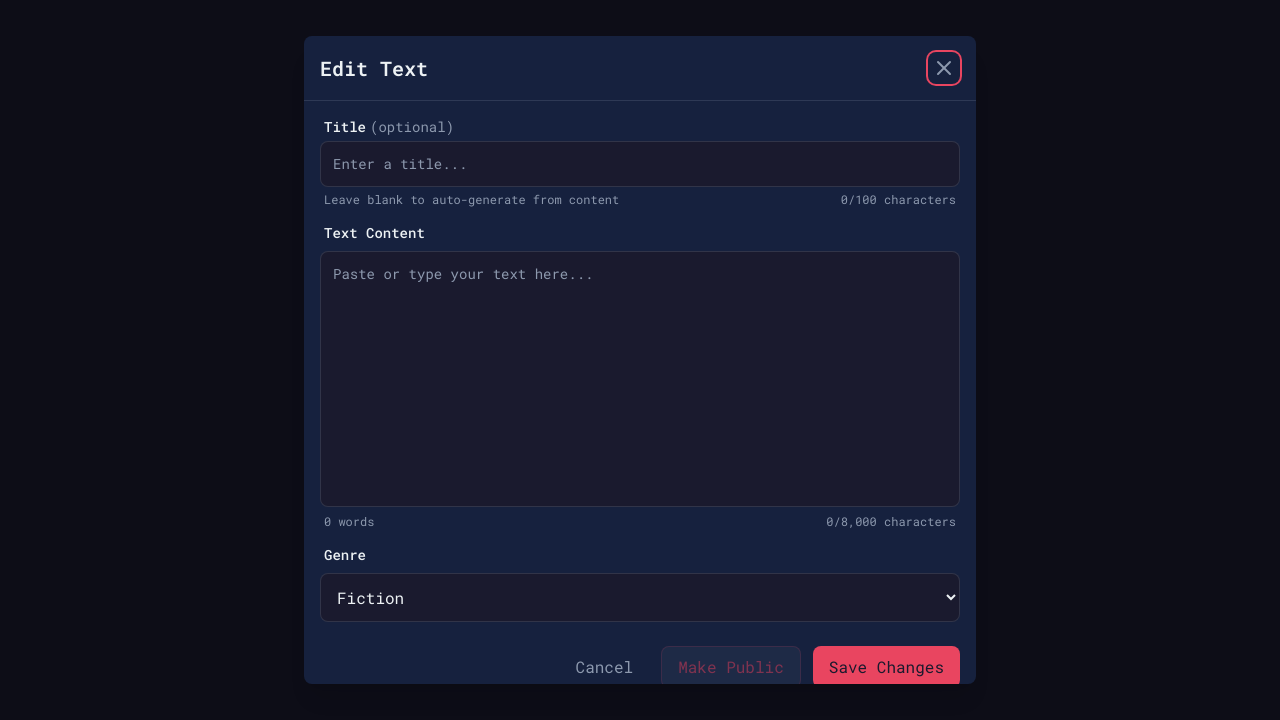
Test: TextFormModal › Make Public button › should enable Make Public button when content is entered
This screenshot has width=1280, height=720.
Step 1. Type "Some content" into the text box labelled "Text Content" → (640, 379), box [320,251,960,507]
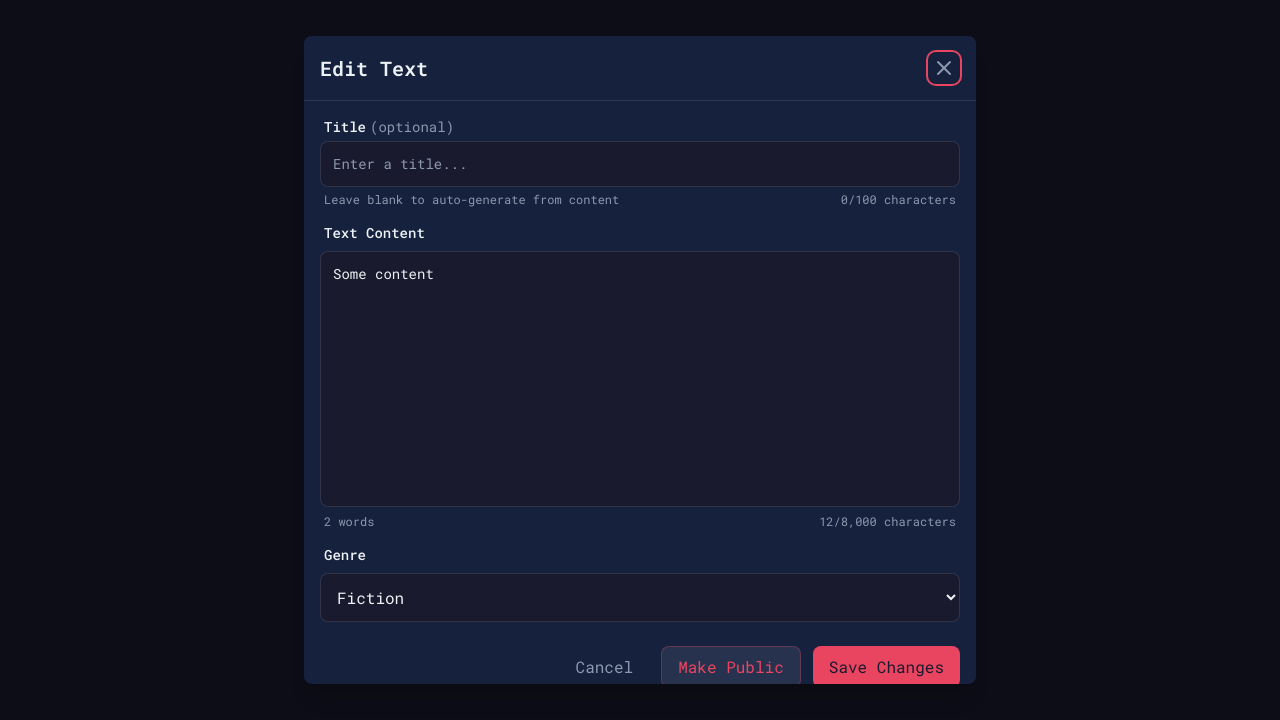
Now the button "Make Public" is enabled, box [661,646,801,684]
